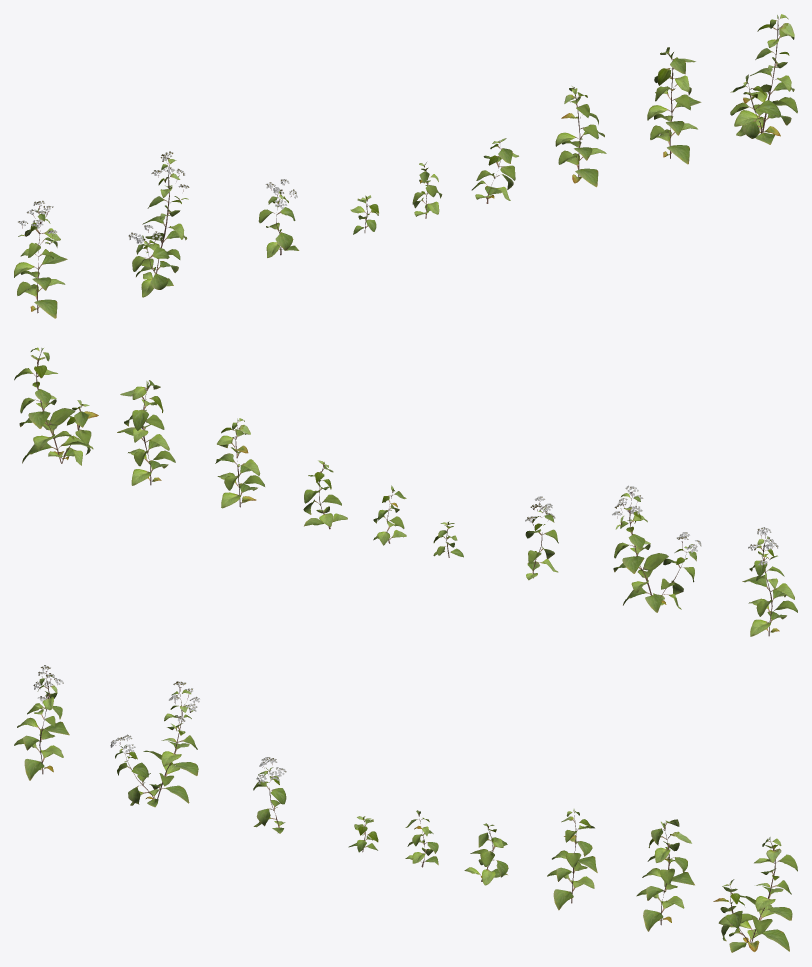
The model's file is shrub_01.glb.
3 views of the same model, one above another, from view 1: azimuth 30°, elevation 25°; view 2: azimuth 150°, elevation 25°; view 3: azimuth 330°, elevation 25° (orthographic). The views are drawn at different scales.
Parts seen in each view (by area): view 1: shrub_01_a; view 2: shrub_01_a; view 3: shrub_01_a.
Part boxes in pixels (x1,y1,x2,y2): shrub_01_a: (14,14,797,318); shrub_01_a: (14,347,797,636); shrub_01_a: (14,665,797,952).
Bounding box in the file's own units: 2.59 × 0.3946 × 0.2182.
1 material, 1 textured.
